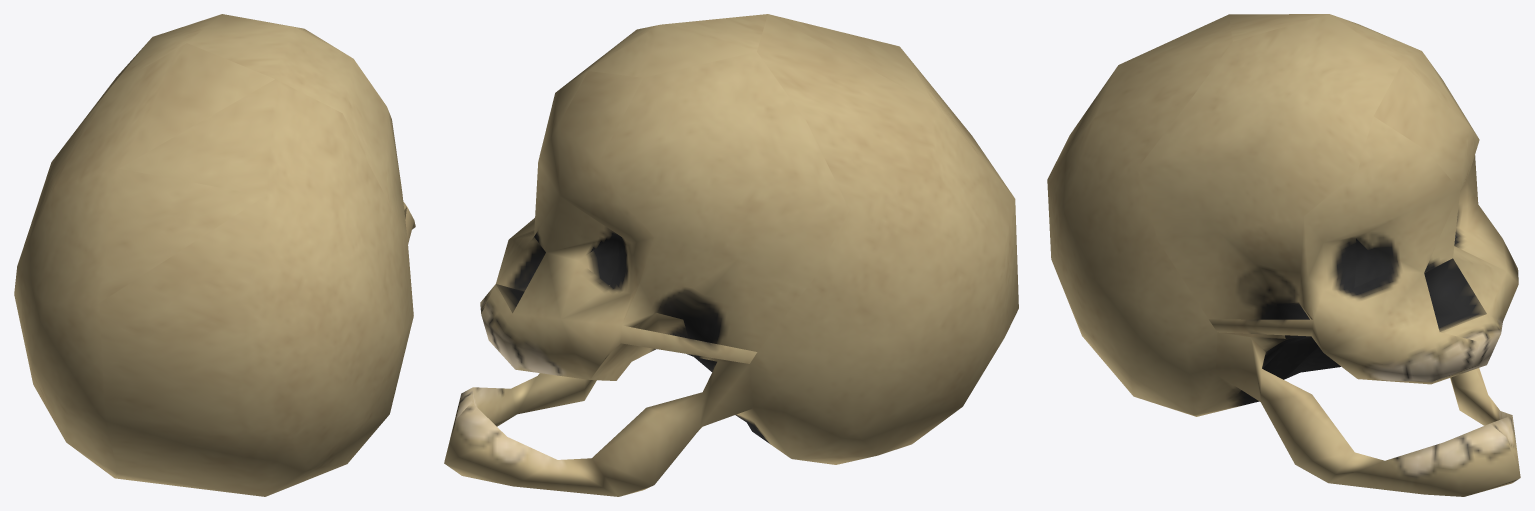
File: Calavera_Low.fbx
3 renders of one model, left to right at view 1: azimuth 30°, elevation 25°; view 2: azimuth 150°, elevation 25°; view 3: azimuth 270°, elevation 25°, orthographic. The views are drawn at different scales.
Visible parts, largest first — view 1: Mesh1_0; view 2: Mesh1_0; view 3: Mesh1_0.
Boxes of the visible parts, x1,y1,x2,y2 form: Mesh1_0: (14,14,415,496); Mesh1_0: (444,14,1018,496); Mesh1_0: (1047,14,1520,496).
Size of the model in its own units: 47.38 by 43.05 by 47.75.
